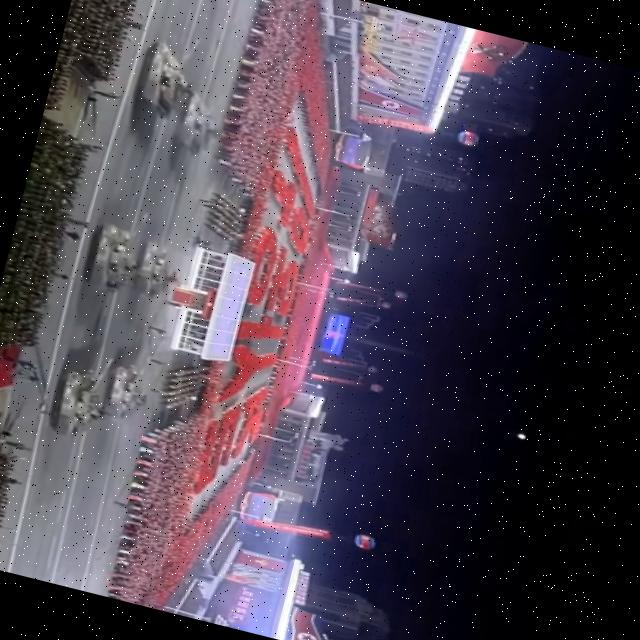north tank: (66, 198, 158, 312), (34, 345, 120, 449), (116, 18, 198, 126), (156, 82, 246, 174), (89, 344, 172, 426), (116, 226, 192, 312)
